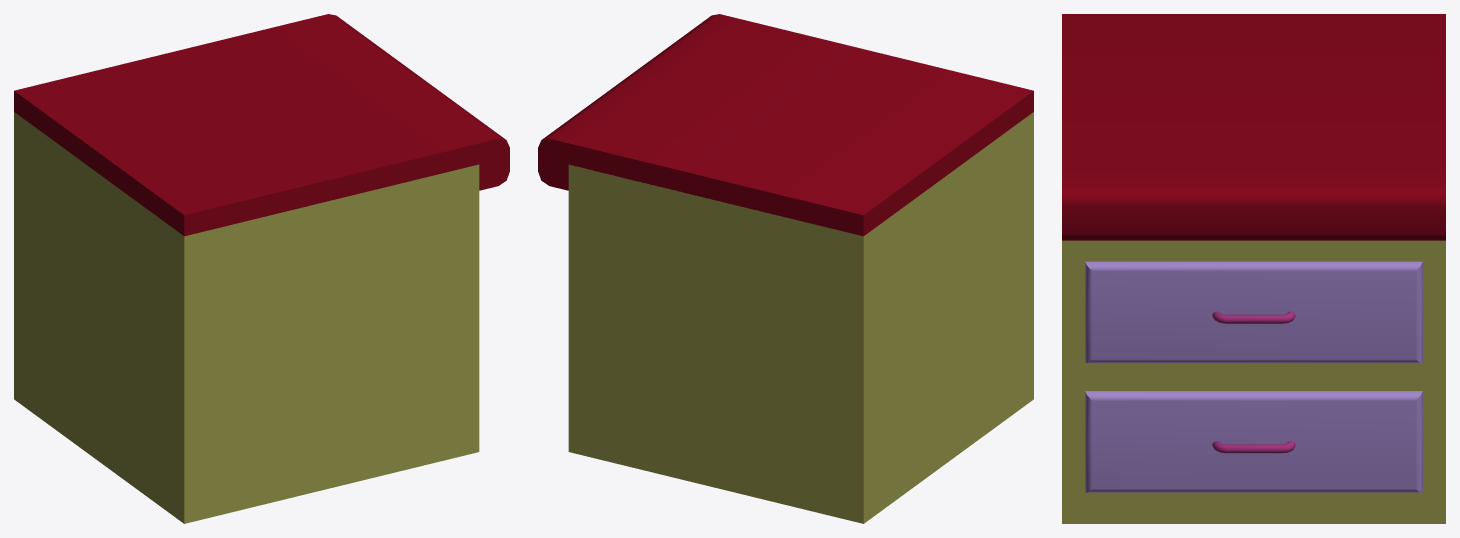
File: NewCounter1.fbx
The picture shows the model from 3 angles, left to right: view 1: azimuth 30°, elevation 25°; view 2: azimuth 150°, elevation 25°; view 3: azimuth 270°, elevation 25°; orthographic projection. The views are drawn at different scales.
Parts seen in each view (by area): view 1: CounterOne; view 2: CounterOne; view 3: CounterOne.
Part boxes in pixels (x1=…): CounterOne: x1=14, y1=14, x2=509, y2=523; CounterOne: x1=538, y1=14, x2=1033, y2=523; CounterOne: x1=1062, y1=14, x2=1445, y2=523.
Bounding box in the file's own units: 2175 × 1970 × 1970.
